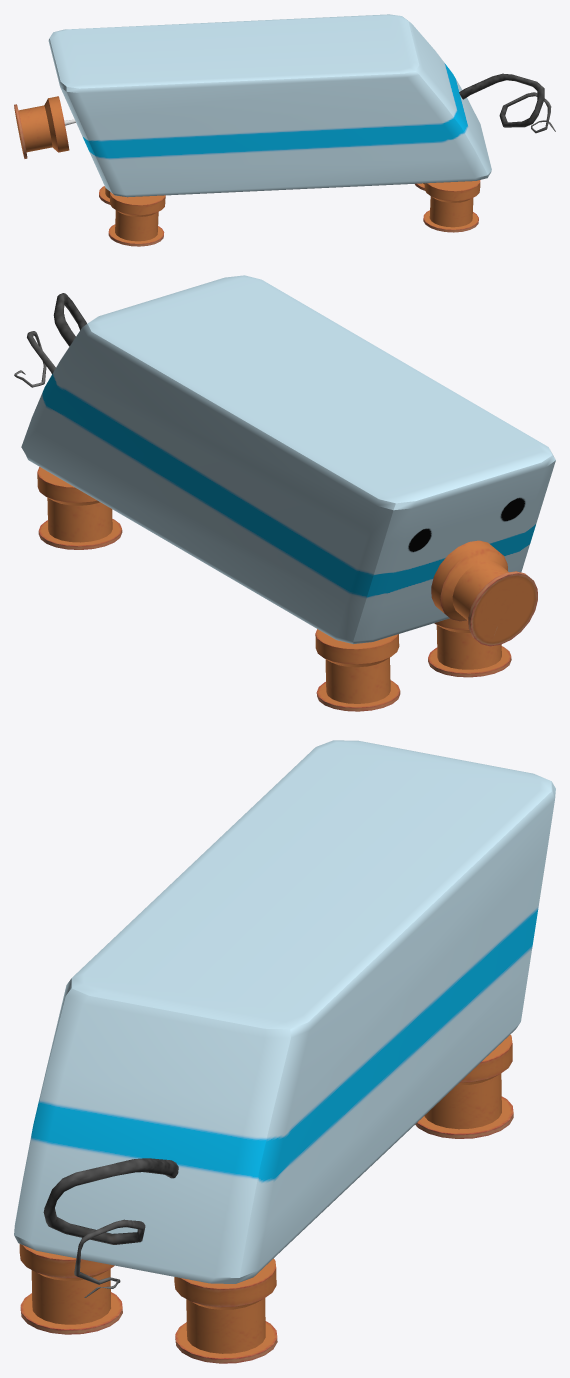
Rendered from GomaPig.fbx.
3 views of the same model, one above another, from view 1: azimuth 30°, elevation 25°; view 2: azimuth 150°, elevation 25°; view 3: azimuth 270°, elevation 25° (orthographic). The views are drawn at different scales.
Parts seen in each view (by area): view 1: PigGoma; view 2: PigGoma; view 3: PigGoma.
Part boxes in pixels (<box>): PigGoma: <box>14,14,555,246</box>; PigGoma: <box>14,275,555,711</box>; PigGoma: <box>14,740,555,1363</box>.
Bounding box in the file's own units: 145 × 50.87 × 84.58.
